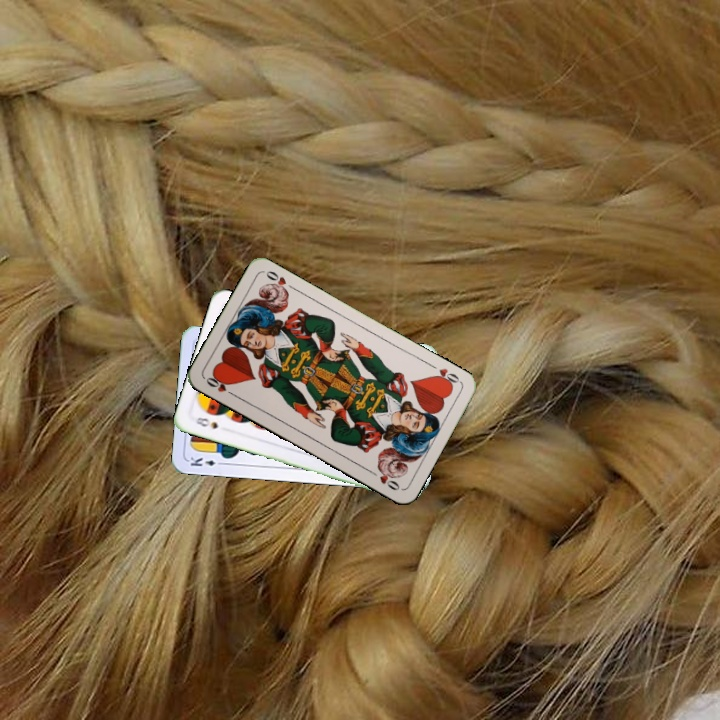EK: (186, 453, 227, 469)
HO: (426, 360, 463, 390), (202, 371, 238, 399)
S8: (191, 413, 220, 431)
